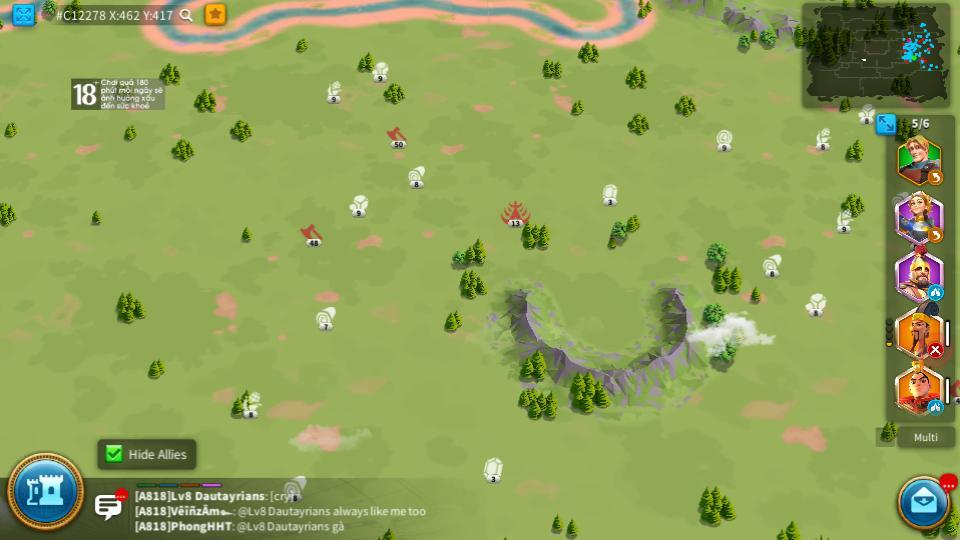gem-z-out: (481, 458, 503, 481), (601, 184, 619, 205)
march_attacking: (928, 347, 942, 358)
march_idle: (926, 401, 945, 413), (929, 284, 942, 297)
march_returning: (927, 170, 944, 185), (928, 230, 942, 242)
